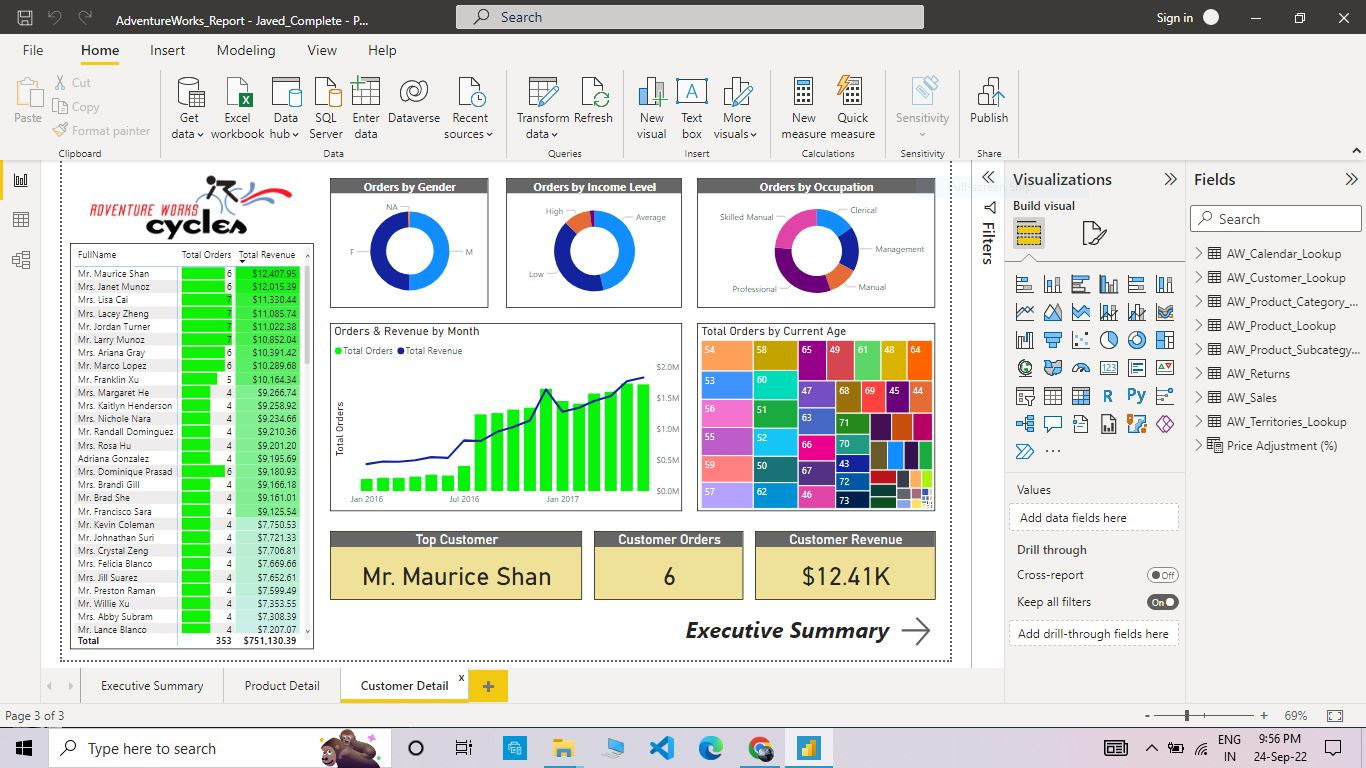

Layout of this report page (visuals, bound fields, positions):
{"tool":"powerbi","page":{"name":"Customer Detail","canvas":[1280,720],"ordinal":2},"visuals":[{"type":"image","box":[11.8,16.8,351.1,102.5],"z":0},{"type":"pivotTable","fields":{"Values":["AW_Sales.Total Orders","AW_Sales.Total Revenue"],"Rows":["AW_Customer_Lookup.FullName"]},"box":[11.8,119.3,351.1,584.6],"z":1000},{"type":"donutChart","title":"Orders by Gender","fields":{"Category":["AW_Customer_Lookup.Gender"],"Y":["AW_Sales.Total Orders"]},"box":[385.9,25.9,227.5,187.2],"z":2000},{"type":"donutChart","title":"Orders by Income Level","fields":{"Category":["AW_Customer_Lookup.IncomeLevel"],"Y":["AW_Sales.Total Orders"]},"box":[639.4,25.9,253.4,187.2],"z":3000},{"type":"donutChart","title":"Orders by Occupation","fields":{"Y":["AW_Sales.Total Orders"],"Series":["AW_Customer_Lookup.Occupation"]},"box":[914.4,25.9,342.7,187.2],"z":4000},{"type":"lineClusteredColumnComboChart","title":"Orders & Revenue by Month","fields":{"Category":["AW_Calendar_Lookup.Start of Month"],"Y":["AW_Sales.Total Orders"],"Y2":["AW_Sales.Total Revenue"]},"box":[385.9,234.7,506.9,270.7],"z":4001},{"type":"treemap","fields":{"Values":["AW_Sales.Total Orders"],"Details":["AW_Customer_Lookup.Current Age"]},"box":[914.4,234.7,342.7,270.7],"z":4002},{"type":"card","title":"Top Customer","fields":{"Values":["AW_Customer_Lookup.FullName"]},"box":[386.1,534,363.1,98.6],"z":4003},{"type":"card","title":"Customer Orders","fields":{"Values":["AW_Sales.Total Orders"]},"box":[765.7,534,215.3,98.6],"z":4004},{"type":"card","title":"Customer Revenue","fields":{"Values":["AW_Sales.Total Revenue"]},"box":[997.4,534,259.6,98.6],"z":4005},{"type":"actionButton","box":[1202.8,652.3,54.2,52.6],"z":4006},{"type":"textbox","box":[892.2,647.4,312.2,57.5],"z":4008}]}

Visuals, with their boxes on the page's 1280x720 design canvas (x1, y1, x2, y2). These are canvas units, not pixel positions in the 1366x768 screenshot, which may show the page scaled, cropped or inside an application window:
image: left=12, top=17, right=363, bottom=119
pivotTable - AW_Sales.Total Orders x AW_Sales.Total Revenue: left=12, top=119, right=363, bottom=704
"Orders by Gender" donutChart: left=386, top=26, right=613, bottom=213
"Orders by Income Level" donutChart: left=639, top=26, right=893, bottom=213
"Orders by Occupation" donutChart: left=914, top=26, right=1257, bottom=213
"Orders & Revenue by Month" lineClusteredColumnComboChart: left=386, top=235, right=893, bottom=505
treemap - AW_Sales.Total Orders x AW_Customer_Lookup.Current Age: left=914, top=235, right=1257, bottom=505
"Top Customer" card: left=386, top=534, right=749, bottom=633
"Customer Orders" card: left=766, top=534, right=981, bottom=633
"Customer Revenue" card: left=997, top=534, right=1257, bottom=633
actionButton: left=1203, top=652, right=1257, bottom=705
textbox: left=892, top=647, right=1204, bottom=705
